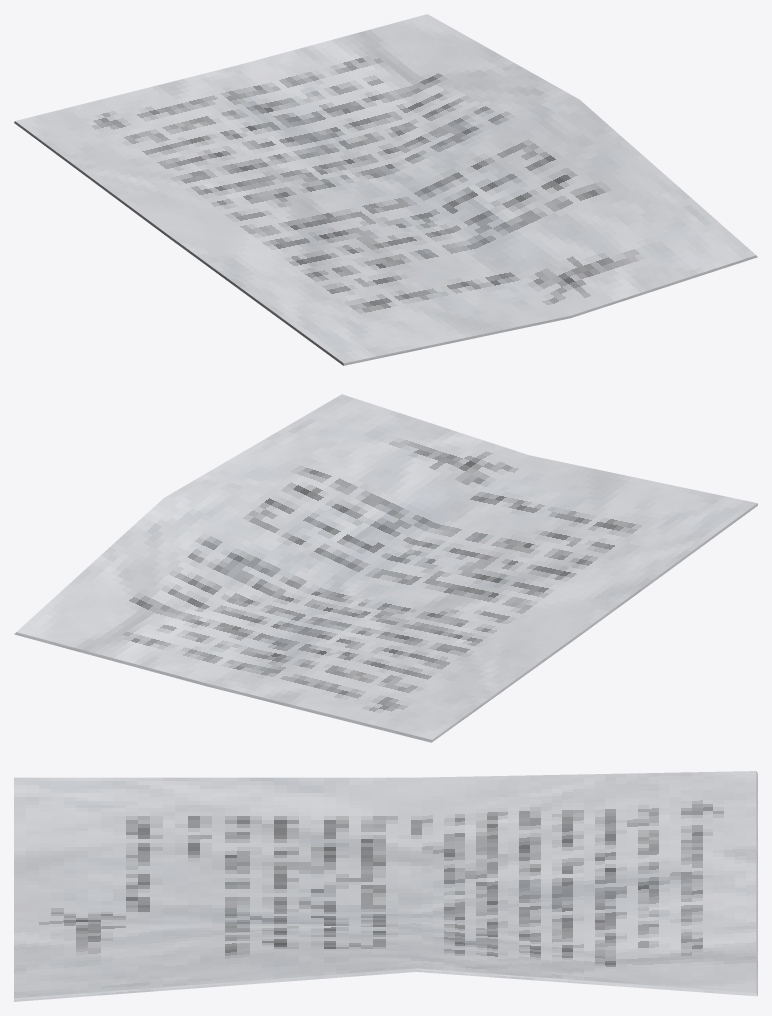
The model's file is WorldItem_SheetOfPaper.FBX.
3 renders of one model, top to bottom at view 1: azimuth 30°, elevation 25°; view 2: azimuth 150°, elevation 25°; view 3: azimuth 270°, elevation 25°, orthographic. The views are drawn at different scales.
Parts seen in each view (by area): view 1: SheetOfPaper; view 2: SheetOfPaper; view 3: SheetOfPaper.
Boxes of the visible parts, x1=… form: SheetOfPaper: x1=14, y1=14, x2=757, y2=365; SheetOfPaper: x1=14, y1=394, x2=757, y2=742; SheetOfPaper: x1=14, y1=771, x2=757, y2=1001.
Bounding box in the file's own units: 23.59 × 2.38 × 31.99.
